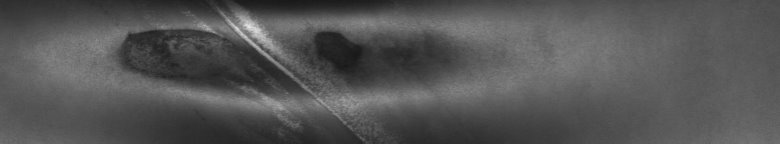ke: (124, 4, 352, 129)
